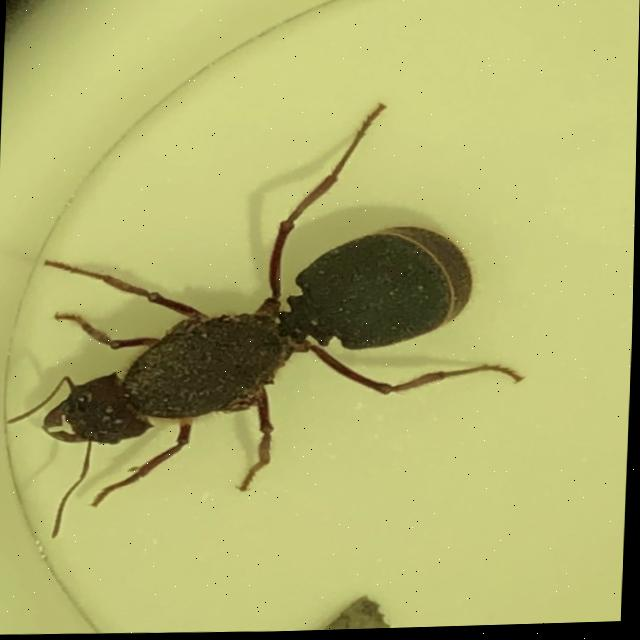Alive-Female-Dealate: (1, 92, 538, 549)
